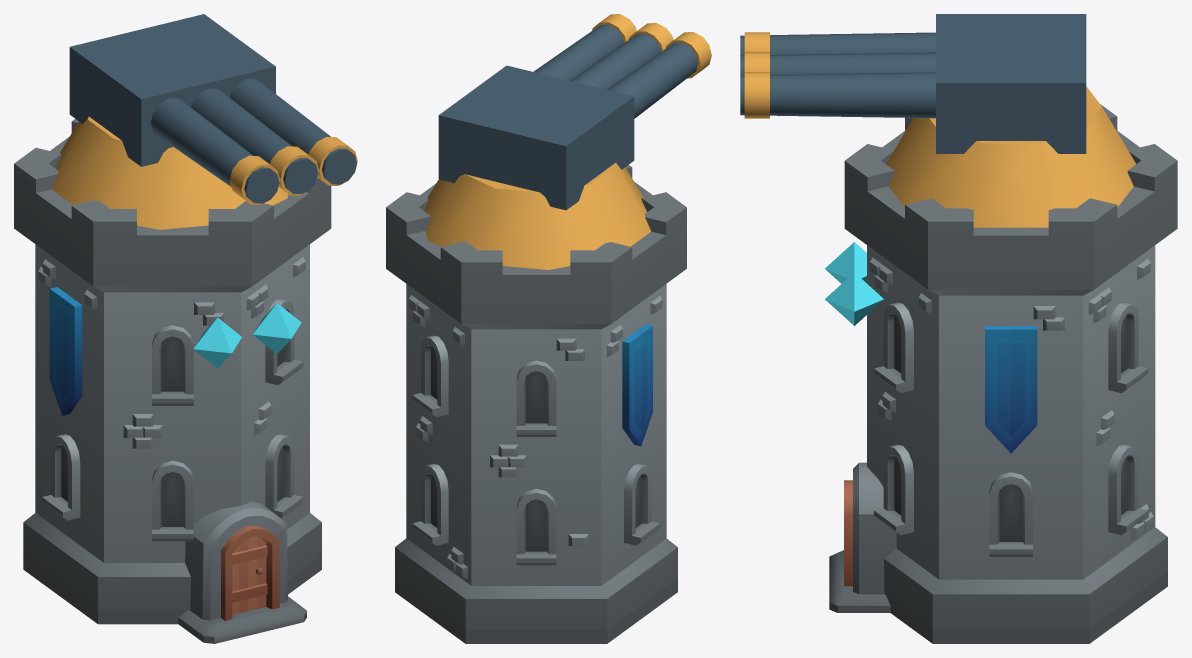
Rendered from tower_gun_l2.glb.
3 renders of one model, left to right at view 1: azimuth 30°, elevation 25°; view 2: azimuth 150°, elevation 25°; view 3: azimuth 270°, elevation 25°, orthographic. The views are drawn at different scales.
Parts seen in each view (by area): view 1: Base, BarrelAssembly, Turret; view 2: Base, BarrelAssembly, Turret; view 3: Base, BarrelAssembly, Turret.
Part boxes in pixels (x1,y1,x2,y2): Base: (14, 119, 331, 643); BarrelAssembly: (69, 14, 357, 204); Turret: (52, 116, 288, 229); Base: (386, 165, 686, 643); BarrelAssembly: (438, 14, 711, 210); Turret: (424, 163, 650, 269); Base: (825, 104, 1177, 643); BarrelAssembly: (740, 14, 1086, 153); Turret: (886, 86, 1135, 227).
Bounding box in the file's own units: 0.9298 × 1.9 × 1.4.
Materials: 4 (1 with a texture image).
